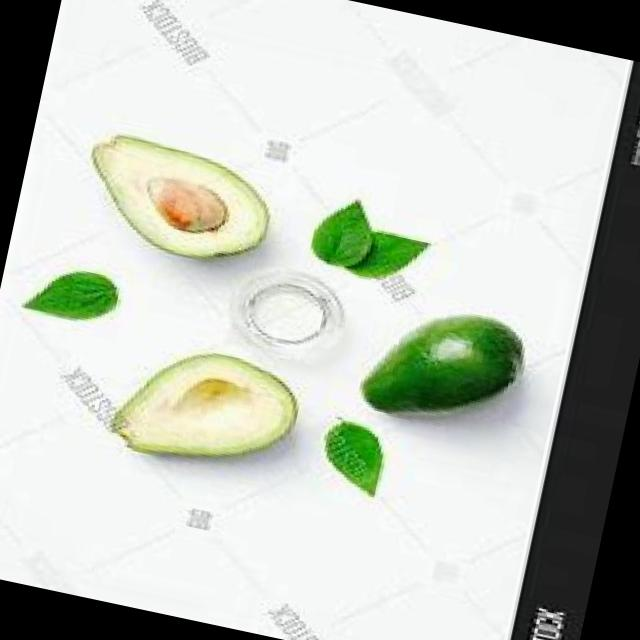avocado: (71, 109, 283, 279), (114, 332, 307, 484), (354, 291, 533, 439)
